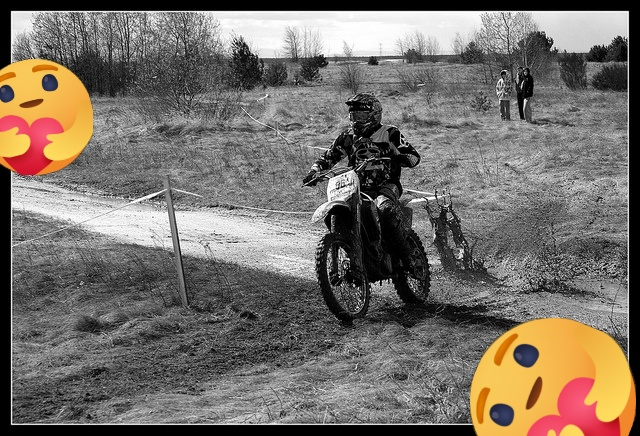care: (470, 318, 636, 436), (0, 59, 93, 175)
